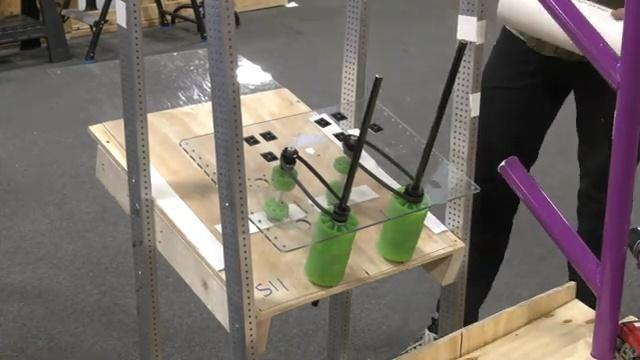CORAL: (496, 0, 623, 57)
